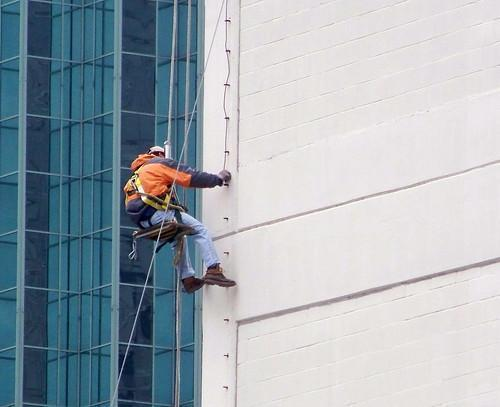vest: (121, 156, 192, 215)
